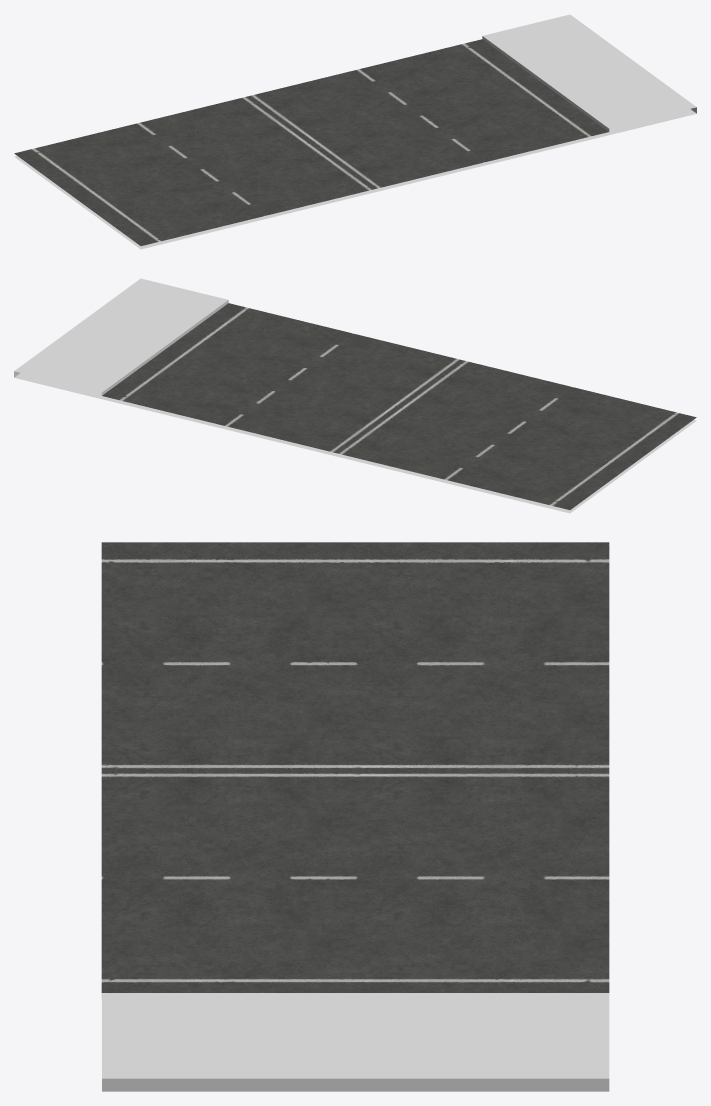
Rendered from Straight 6 Lane No Side.fbx.
3 renders of one model, top to bottom at view 1: azimuth 30°, elevation 25°; view 2: azimuth 150°, elevation 25°; view 3: azimuth 270°, elevation 25°, orthographic. The views are drawn at different scales.
Parts seen in each view (by area): view 1: Plane; view 2: Plane; view 3: Plane.
Part boxes in pixels (box(x1,y1,x2,y2)): Plane: box(14, 14, 696, 249); Plane: box(14, 278, 696, 513); Plane: box(101, 542, 609, 1091).
Size of the model in its own units: 3544 by 40 by 1400.
